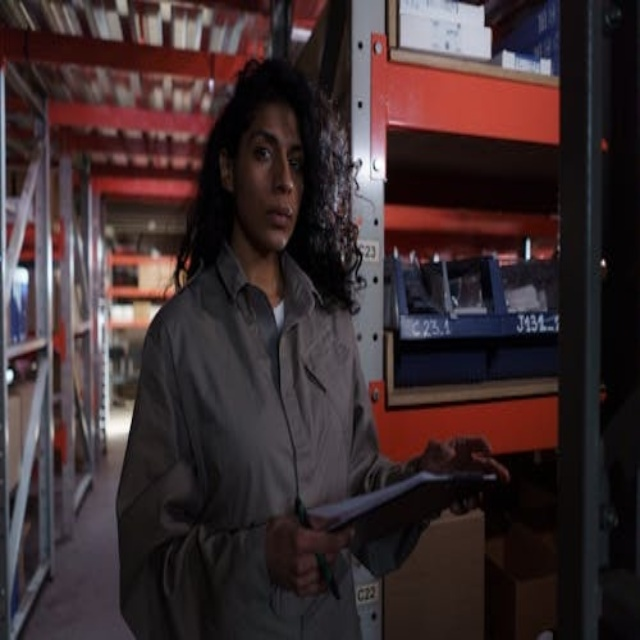Sin_gafas: (246, 127, 308, 179)
Sin_guantes: (262, 511, 352, 598), (415, 435, 510, 505)
Sin_mascara: (259, 194, 296, 234)
